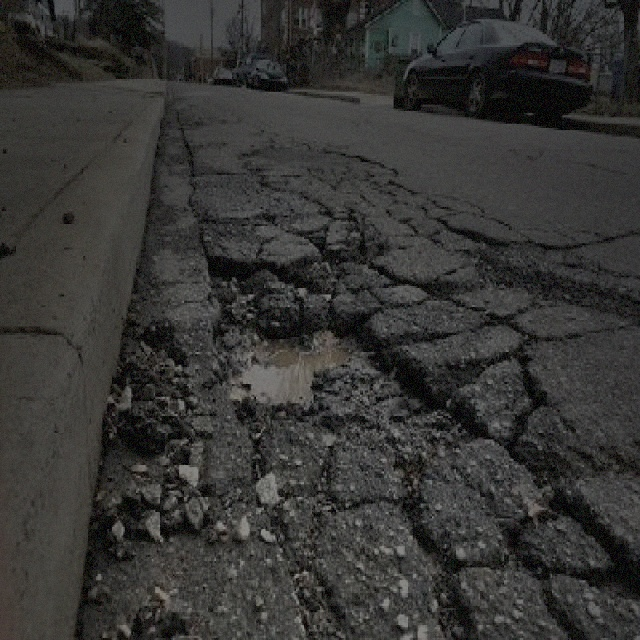pothole: (203, 250, 488, 454)
